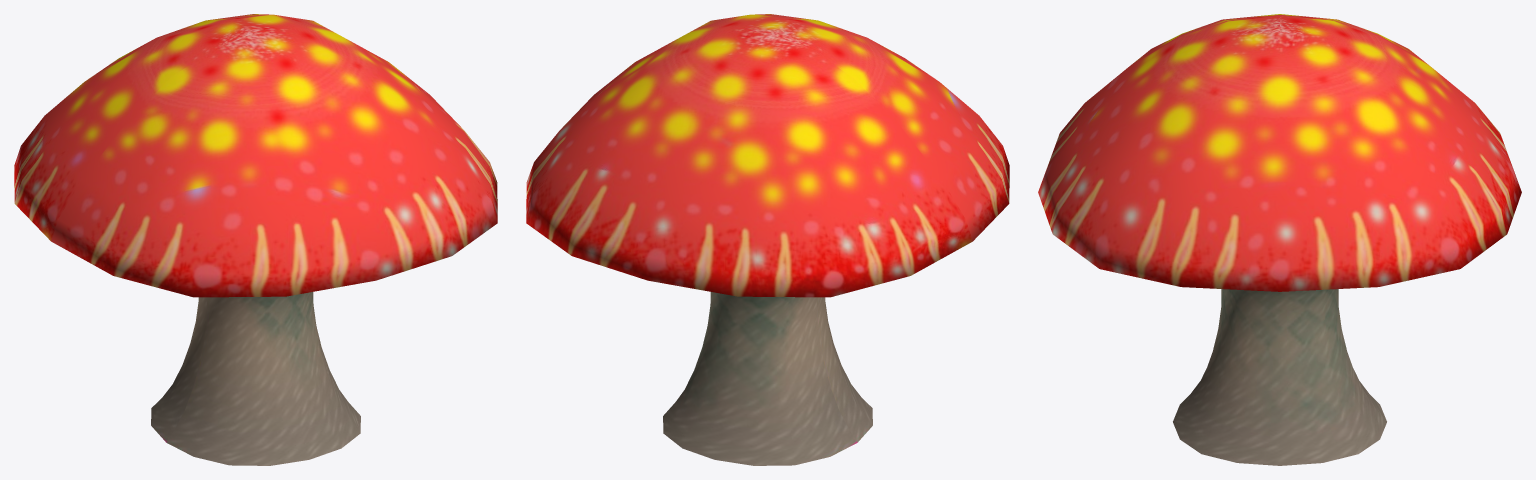
The model's file is mushroom.glb.
The picture shows the model from 3 angles, left to right: view 1: azimuth 30°, elevation 25°; view 2: azimuth 150°, elevation 25°; view 3: azimuth 270°, elevation 25°; orthographic projection.
Visible parts, largest first — view 1: Box008; view 2: Box008; view 3: Box008.
Boxes of the visible parts, left/top/right/bottom form: Box008: left=14, top=14, right=497, bottom=465; Box008: left=526, top=14, right=1009, bottom=465; Box008: left=1038, top=14, right=1521, bottom=465.
Size of the model in its own units: 7.71 by 6.96 by 7.84.
1 material, 1 textured.
